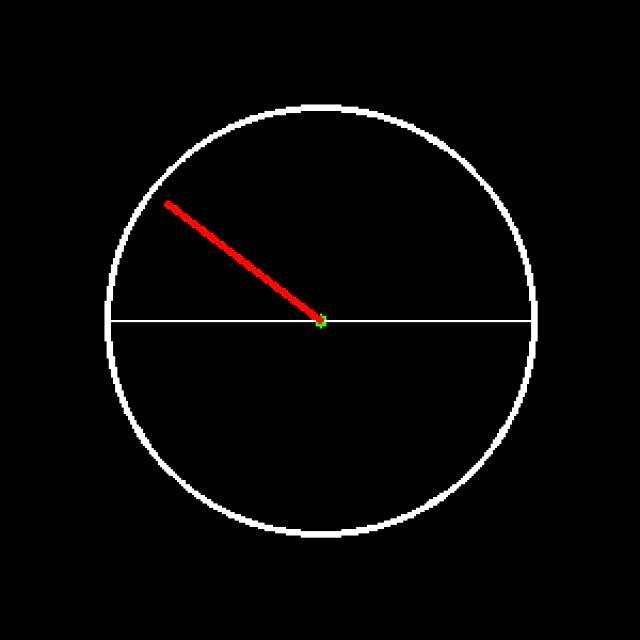Needle_Tip: (140, 188, 233, 233)
Needle_base: (304, 295, 334, 353)
